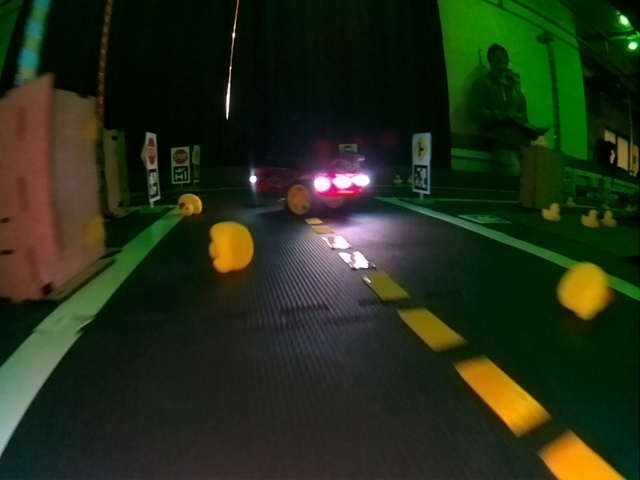Duckie: (556, 264, 608, 319), (209, 222, 252, 271), (180, 194, 203, 215), (581, 209, 596, 226)
Duckiebot: (248, 164, 365, 214)
Intersection sign: (413, 136, 430, 160)
QR code: (413, 167, 427, 192), (172, 166, 188, 182)
Stop sign: (172, 149, 188, 162)
